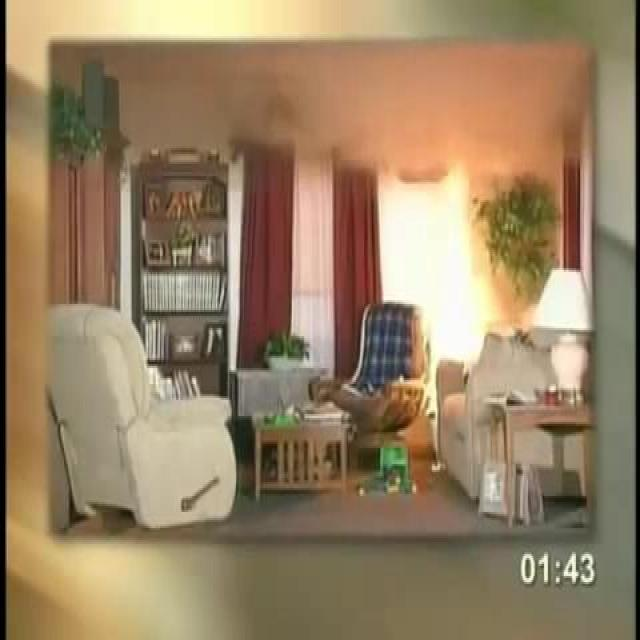fire: (404, 159, 504, 367)
